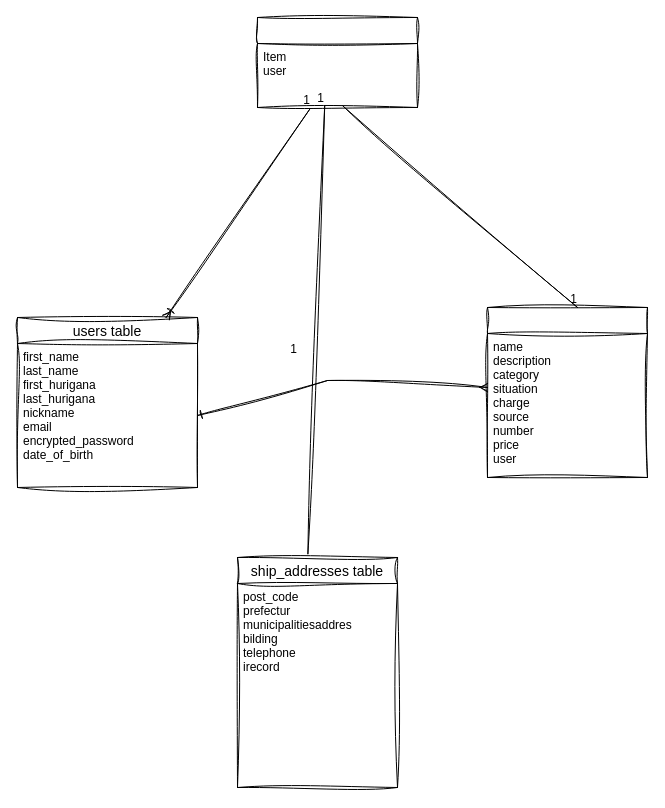
The diagram is 665 pixels wide and 808 high, and some of its shapes have lost their labels. Each missing label, with the box of its shape:
items table: (486, 306, 648, 478)
record table: (256, 16, 418, 108)
